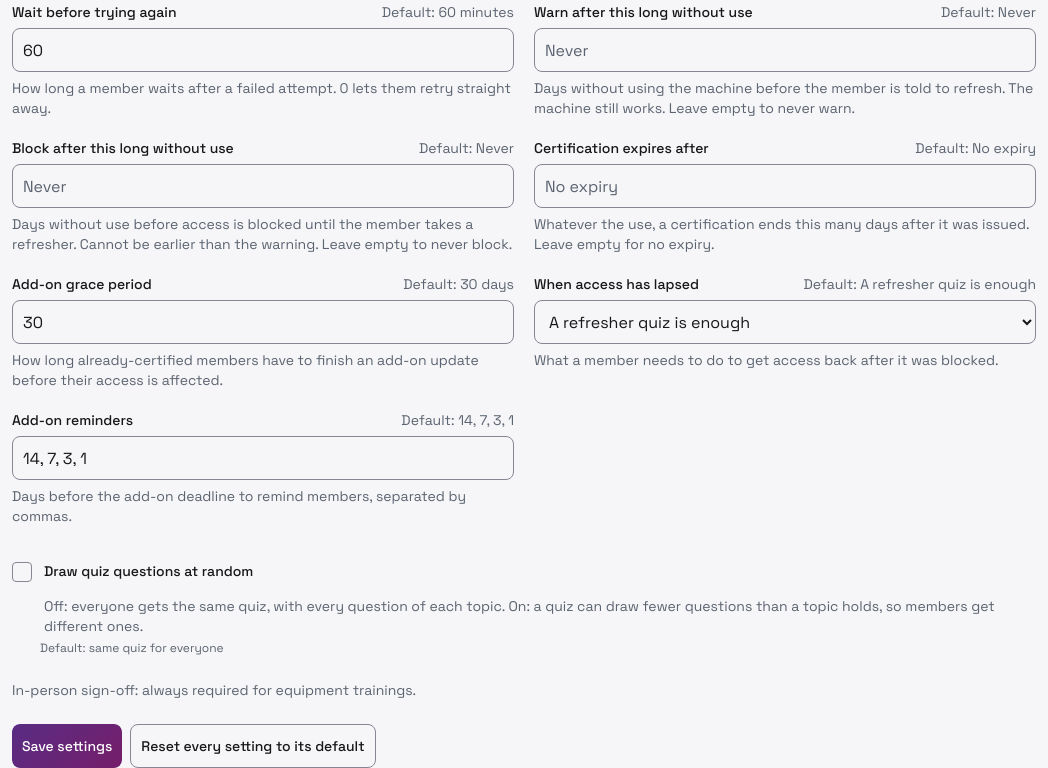
Test case: TrainingSettingsForm › puts every setting back to its default
(page scrolled)
What coordinates should you click on to do the following:
click the button "Reset every setting to its default"
I would click on:
 (253, 746)
Its box is [130, 724, 376, 767].
(page scrolled)
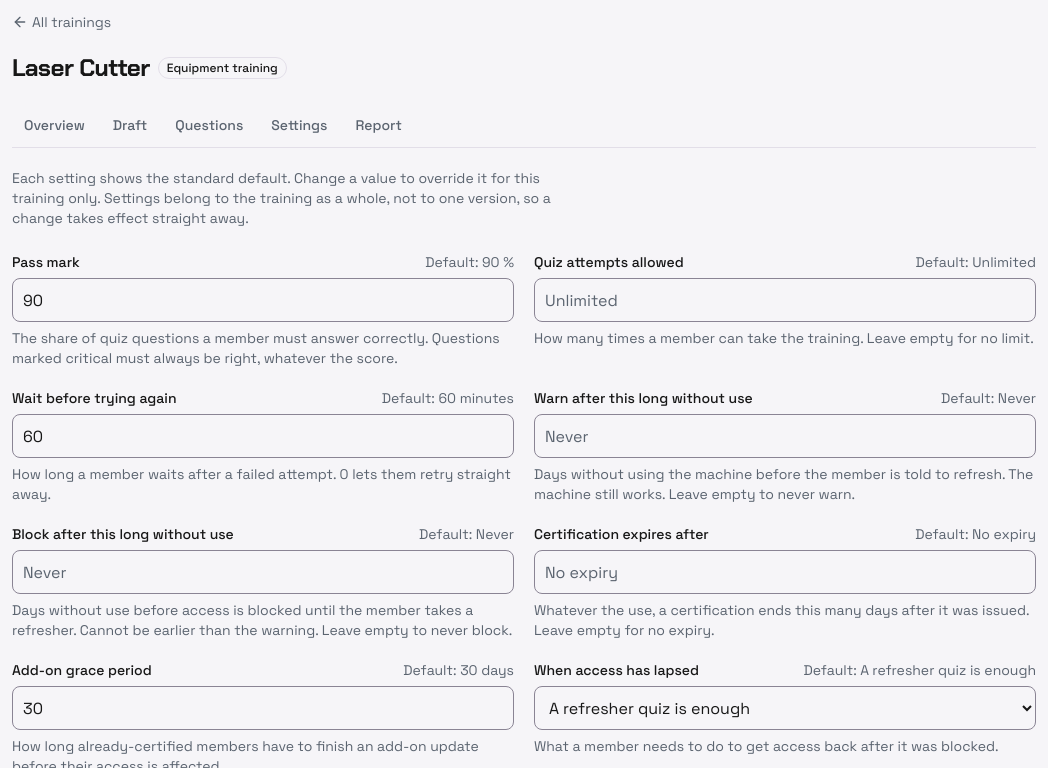
expect the field labelled "Pass mark" holds "90": met, box [12, 278, 514, 322]
expect the field labelled "Quiz attempts allowed" is empty: met, box [534, 278, 1036, 322]
